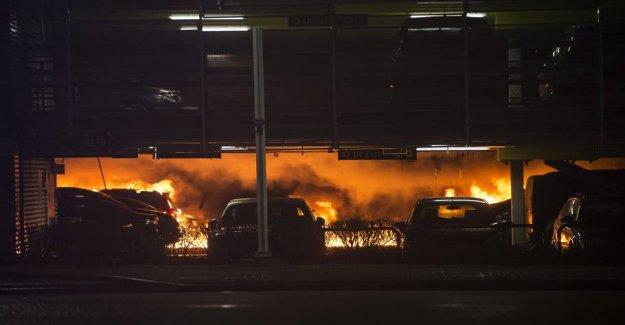fire: (173, 208, 212, 251), (470, 176, 513, 203), (127, 179, 177, 198), (305, 198, 338, 225), (331, 237, 396, 247)
